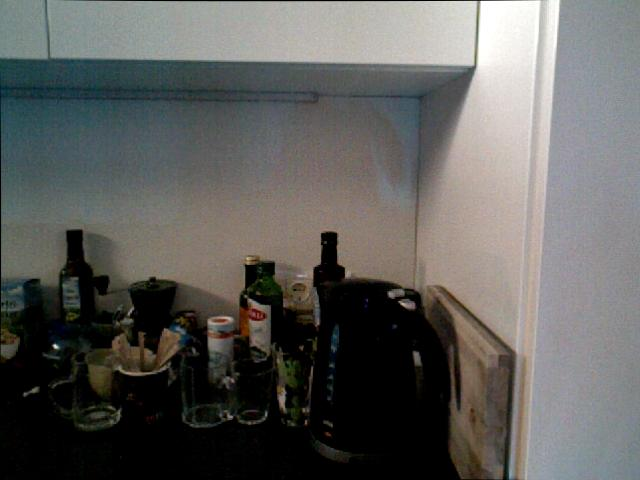bench: (58, 228, 95, 326), (247, 260, 283, 360), (312, 230, 345, 328), (238, 255, 260, 339)
bird: (87, 347, 157, 392), (0, 324, 24, 364)
handbag: (48, 348, 123, 431), (176, 350, 230, 430), (275, 331, 313, 428), (117, 355, 169, 425), (226, 352, 274, 426)
hot dog: (510, 0, 639, 479)
